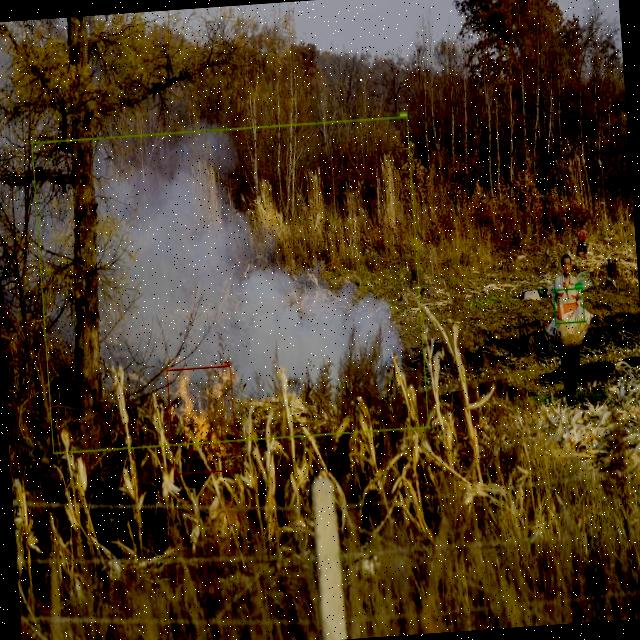fire: (165, 365, 238, 474)
smoke: (31, 115, 429, 453)
